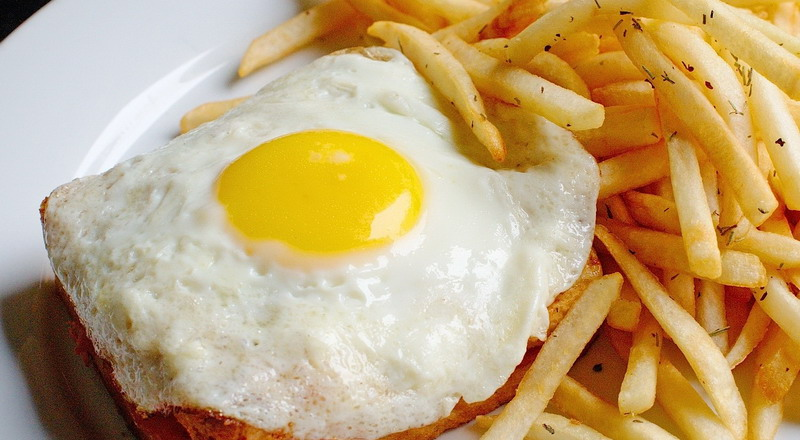Telur: (48, 70, 607, 410)
